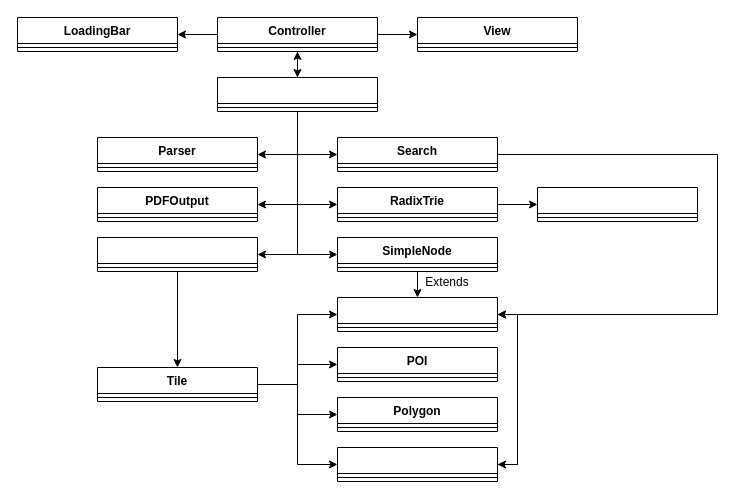
The diagram is 743 pixels wide and 499 high, and some of its shapes have lost their labels. Here are the shapes that lost their labels. From the top down, the centre of each, then its label:
the point at 297,94: Model
the point at 617,204: TrieNode
the point at 177,254: Tilegrid
the point at 417,314: Node
the point at 417,464: Road
